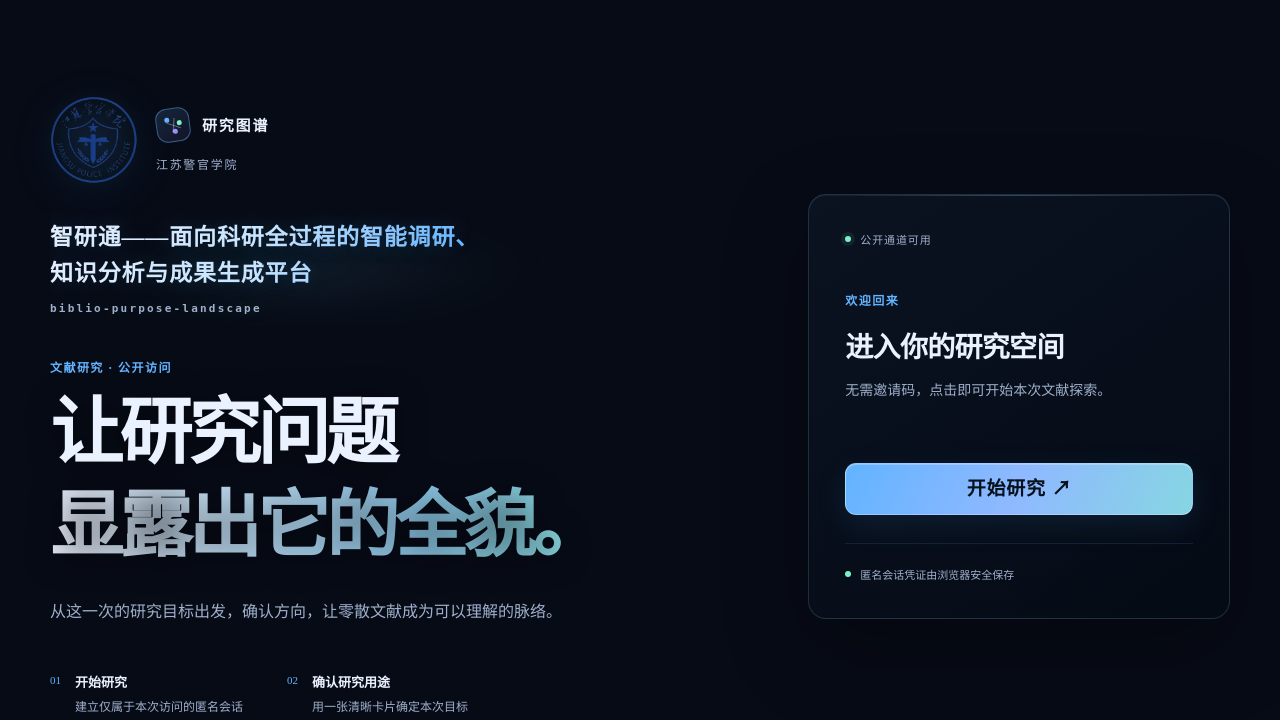
Scenario: Public entry › shows a safe service error without backend details
What coordinates should you click on to do the following:
click the button "开始研究 ↗"
I would click on:
 (1019, 489)
Its box is [845,463,1193,515].
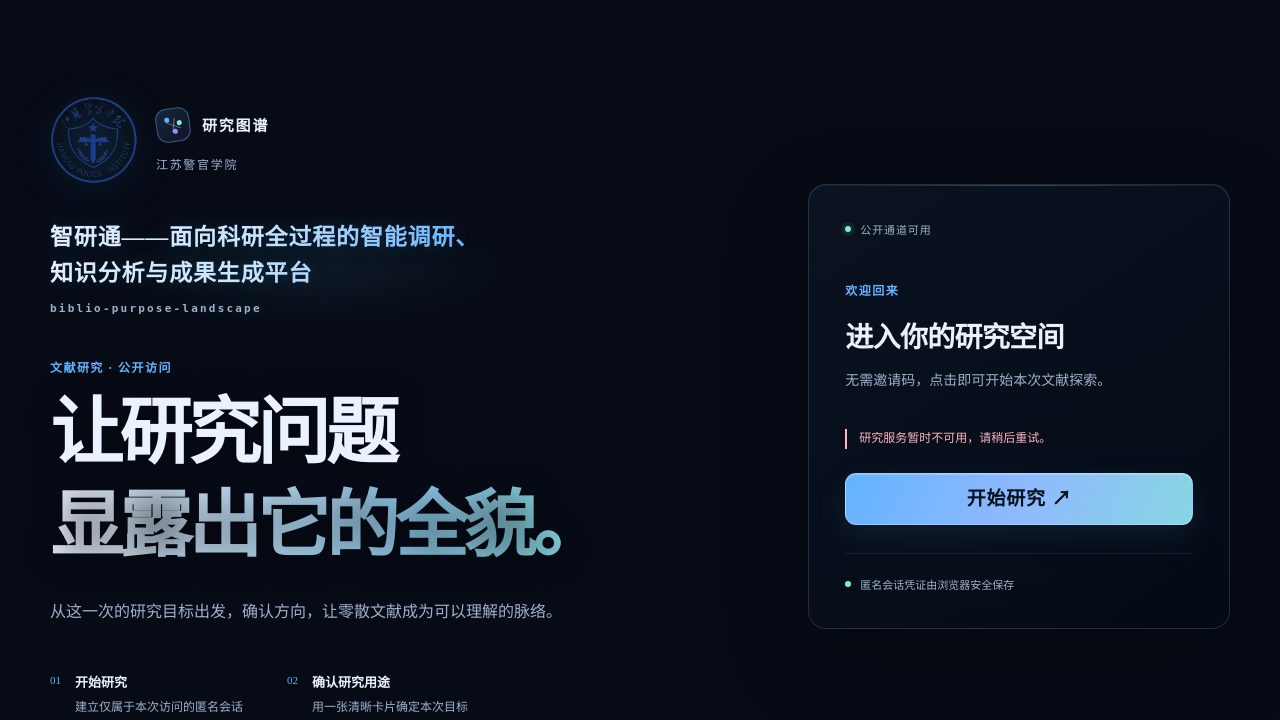
Expected: the message reads "研究服务暂时不可用，请稍后重试。", [859,431,1051,445]
